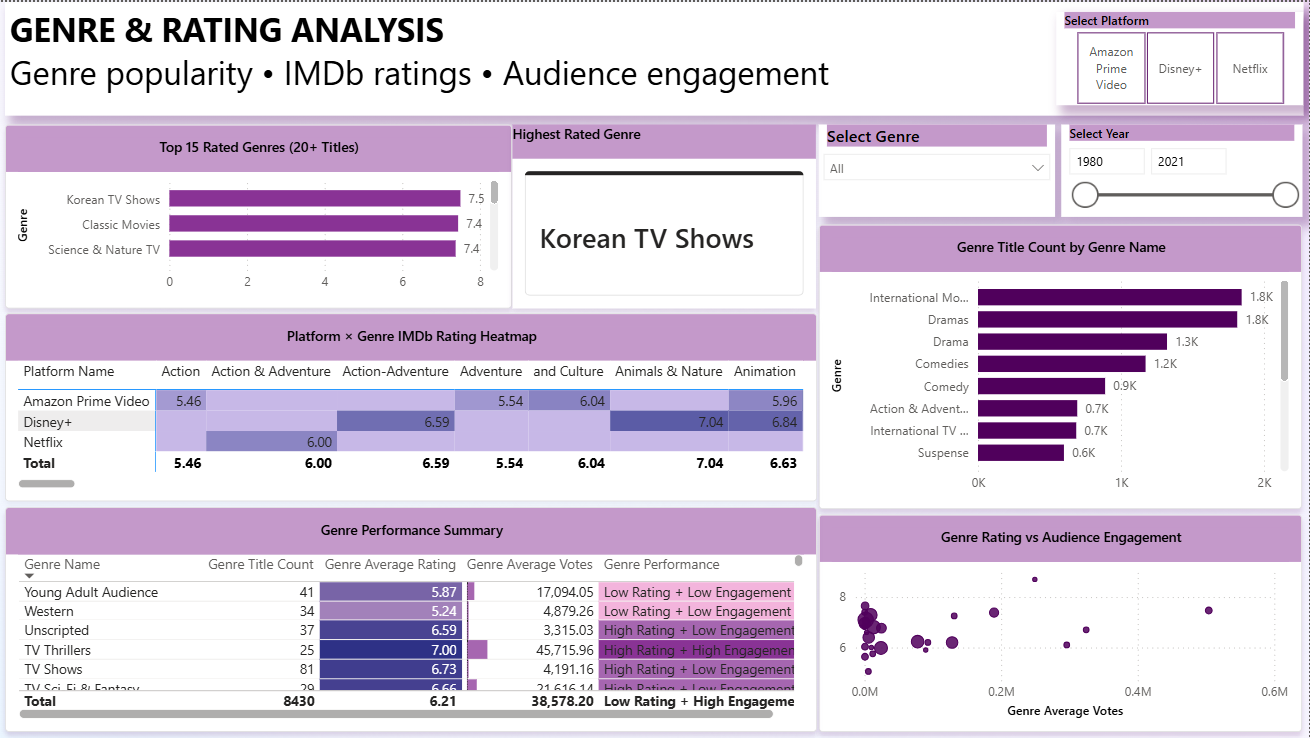

Layout of this report page (visuals, bound fields, positions):
{"tool":"powerbi","page":{"name":"Genre & Rating Analysis","canvas":[1280,720],"ordinal":2},"visuals":[{"type":"textbox","box":[4.3,0,1270,111.4],"z":0},{"type":"slicer","fields":{"Values":["ott_movie_analysis platforms.platform_name"]},"box":[1032.9,10,241.4,91.4],"z":1000},{"type":"slicer","fields":{"Values":["ott_movie_analysis genres.genre_name"]},"box":[801.4,120,231.4,90],"z":2000},{"type":"slicer","fields":{"Values":["ott_movie_analysis titles.release_year"]},"box":[1038.6,120,235.7,90],"z":3000},{"type":"clusteredBarChart","fields":{"Category":["ott_movie_analysis genres.genre_name"],"Y":["Performance Categories.Genre Title Count"]},"box":[801.4,217.1,472.9,278.6],"z":4000},{"type":"clusteredBarChart","title":"Top 15 Rated Genres (20+ Titles)","fields":{"Category":["ott_movie_analysis genres.genre_name"],"Y":["Performance Categories.Genre Average Rating"]},"box":[4.3,120,495.7,180],"z":5000},{"type":"cardVisual","title":"Highest Rated Genre","fields":{"Data":["Performance Categories.Top Rated Genre"]},"box":[501.4,120,297.1,180],"z":6000},{"type":"scatterChart","title":"Genre Rating vs Audience Engagement","fields":{"X":["Performance Categories.Genre Average Votes"],"Y":["Performance Categories.Genre Average Rating"],"Size":["Performance Categories.Genre Title Count"],"Category":["ott_movie_analysis genres.genre_name"]},"box":[801.4,501.4,472.9,212.9],"z":7000},{"type":"pivotTable","title":"Platform × Genre IMDb Rating Heatmap","fields":{"Rows":["ott_movie_analysis platforms.platform_name"],"Columns":["ott_movie_analysis genres.genre_name"],"Values":["Performance Categories.Platform Genre Rating"]},"box":[4.3,304.3,794.3,184.3],"z":8000},{"type":"tableEx","title":"Genre Performance Summary","fields":{"Values":["ott_movie_analysis genres.genre_name","Performance Categories.Genre Title Count","Performance Categories.Genre Average Rating","Performance Categories.Genre Average Votes","Performance Categories.Genre Performance"]},"box":[4.3,494.3,794.3,220],"z":9000}]}

Visuals, with their boxes in screenshot pixels (x1, y1, x2, y2), scaled from the page's 1280x720 canvas onto the 1310x738 screenshot:
textbox: <box>4,0,1304,114</box>
slicer - ott_movie_analysis platforms.platform_name: <box>1057,10,1304,104</box>
slicer - ott_movie_analysis genres.genre_name: <box>820,123,1057,215</box>
slicer - ott_movie_analysis titles.release_year: <box>1063,123,1304,215</box>
clusteredBarChart - ott_movie_analysis genres.genre_name x Performance Categories.Genre Title Count: <box>820,223,1304,508</box>
"Top 15 Rated Genres (20+ Titles)" clusteredBarChart: <box>4,123,512,308</box>
"Highest Rated Genre" cardVisual: <box>513,123,817,308</box>
"Genre Rating vs Audience Engagement" scatterChart: <box>820,514,1304,732</box>
"Platform × Genre IMDb Rating Heatmap" pivotTable: <box>4,312,817,501</box>
"Genre Performance Summary" tableEx: <box>4,507,817,732</box>
